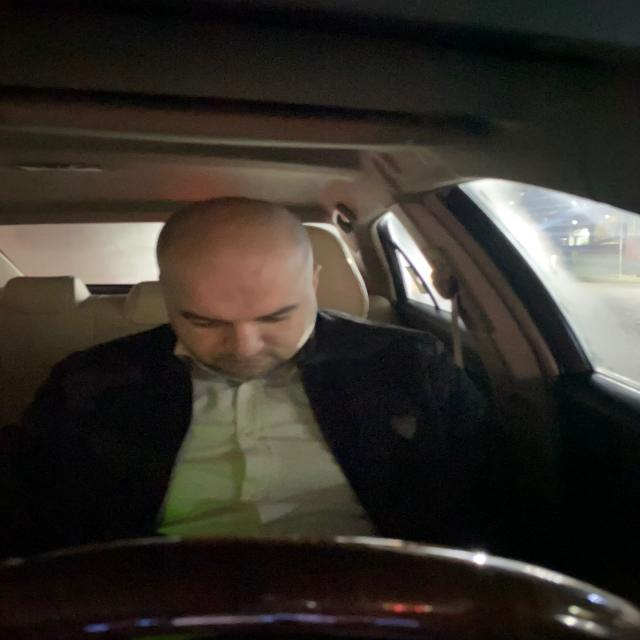drowsy: (148, 191, 338, 384)
